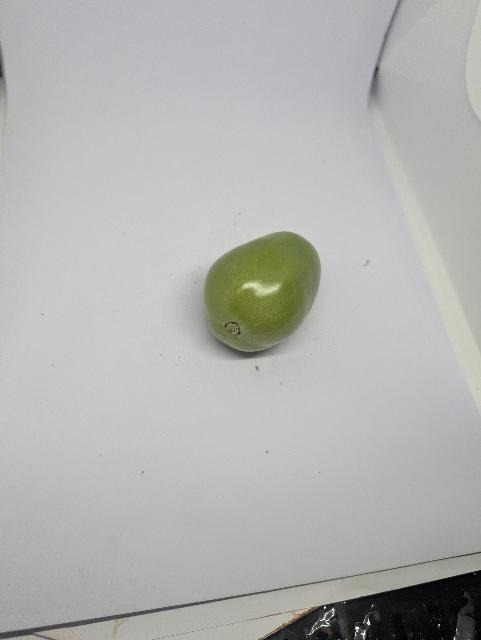green: (184, 216, 349, 369)
